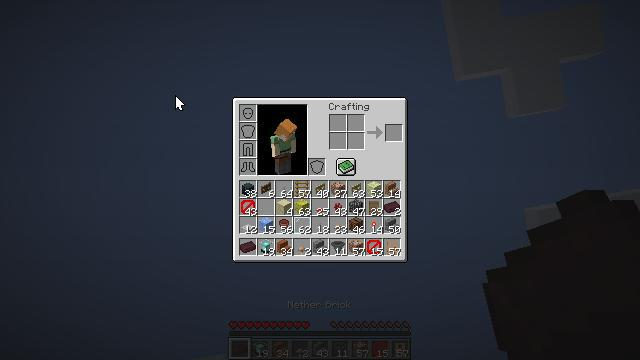cursor: (175, 95, 185, 111)
